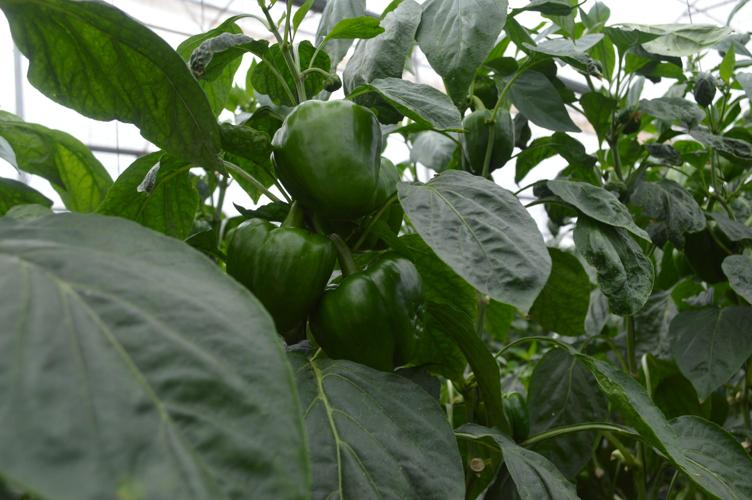BellPepper: (306, 251, 441, 380), (264, 97, 391, 222), (216, 219, 325, 337), (455, 105, 527, 176)
